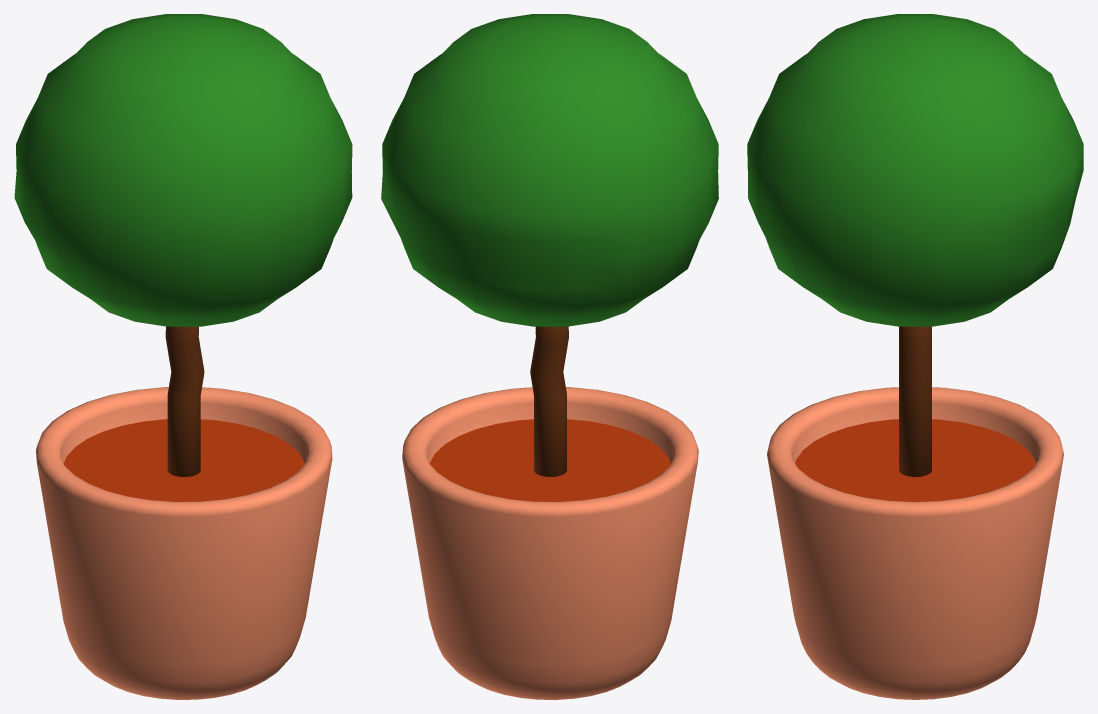
File: KüçükAğaç.fbx
3 renders of one model, left to right at view 1: azimuth 30°, elevation 25°; view 2: azimuth 150°, elevation 25°; view 3: azimuth 270°, elevation 25°, orthographic.
Parts seen in each view (by area): view 1: Küçük Ağaç; view 2: Küçük Ağaç; view 3: Küçük Ağaç.
Boxes of the visible parts, left/top/right/bottom form: Küçük Ağaç: left=14, top=14, right=352, bottom=699; Küçük Ağaç: left=381, top=14, right=718, bottom=699; Küçük Ağaç: left=747, top=14, right=1083, bottom=699.
Bounding box in the file's own units: 273 × 574 × 276.
